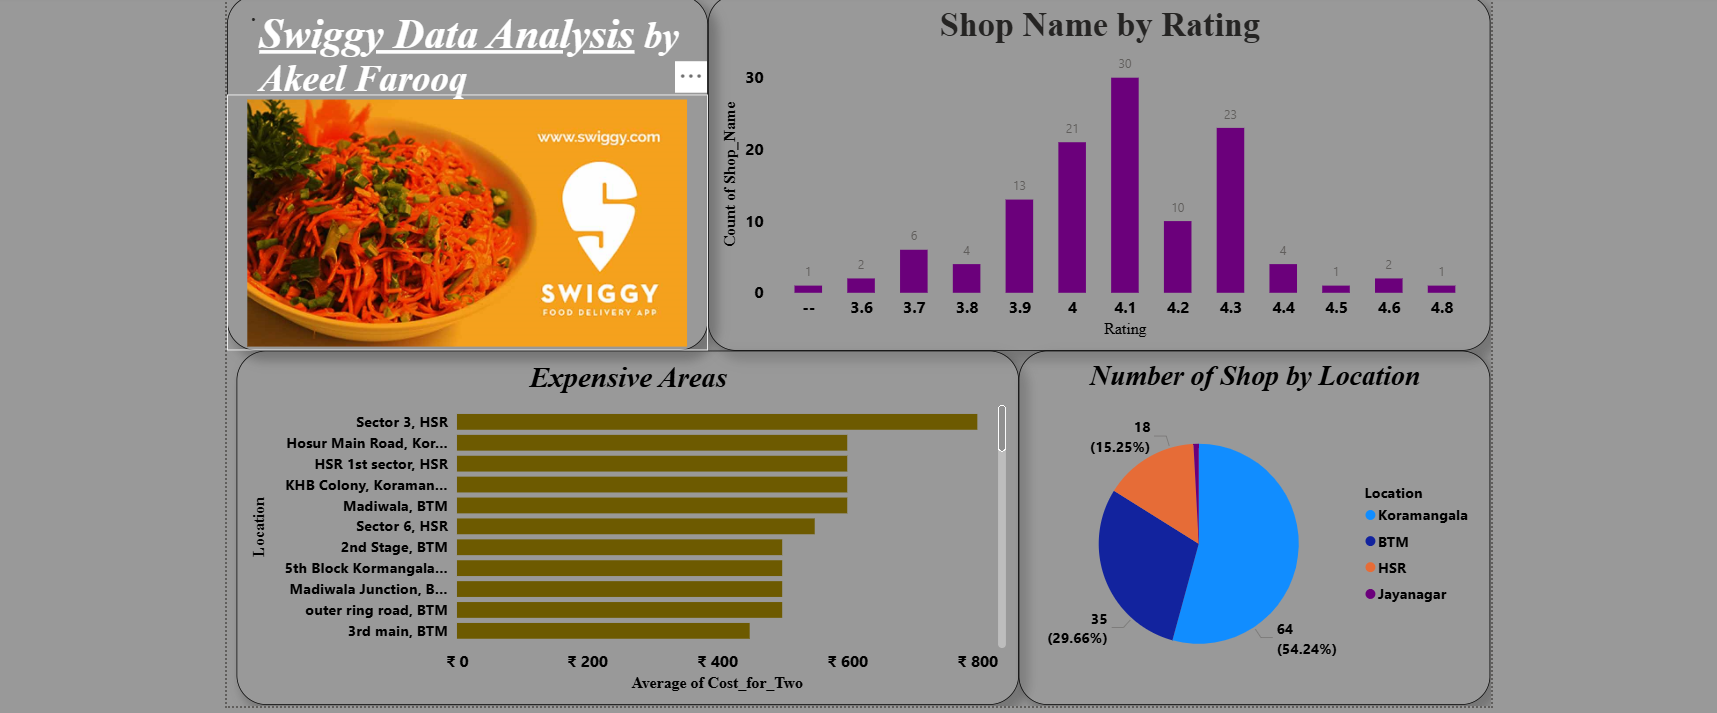

The dashboard page shown, as its layout file describes it:
{"tool":"powerbi","page":{"name":"Page 1","canvas":[1280,720],"ordinal":0},"visuals":[{"type":"columnChart","title":"Shop Name by Rating","fields":{"Y":["CountNonNull(Swiggy Bangalore Outlet Details.Shop_Name)"],"Category":["Swiggy Bangalore Outlet Details.Rating"]},"box":[487.2,0,792.8,360.6],"z":0},{"type":"clusteredBarChart","title":"Expensive Areas","fields":{"Y":["Avg(Swiggy Bangalore Outlet Details.Cost_for_Two)"],"Category":["Swiggy Bangalore Outlet Details.Location"]},"box":[9.6,360.6,792.8,359.2],"z":1000},{"type":"pieChart","title":"Number of Shop by Location","fields":{"Y":["CountNonNull(Sheet1.Shop_Name)"],"Category":["Sheet1.Location2"]},"box":[802.4,360.6,477.6,359.2],"z":2000},{"type":"textbox","box":[0,0,487.2,360.6],"z":3000},{"type":"image","box":[0,100.5,487.2,260.1],"z":4000}]}

Visuals, with their boxes on the page's 1280x720 design canvas (x1, y1, x2, y2). These are canvas units, not pixel positions in the 1717x713 screenshot, which may show the page scaled, cropped or inside an application window:
"Shop Name by Rating" columnChart: (487,0,1280,361)
"Expensive Areas" clusteredBarChart: (10,361,802,720)
"Number of Shop by Location" pieChart: (802,361,1280,720)
textbox: (0,0,487,361)
image: (0,100,487,361)
